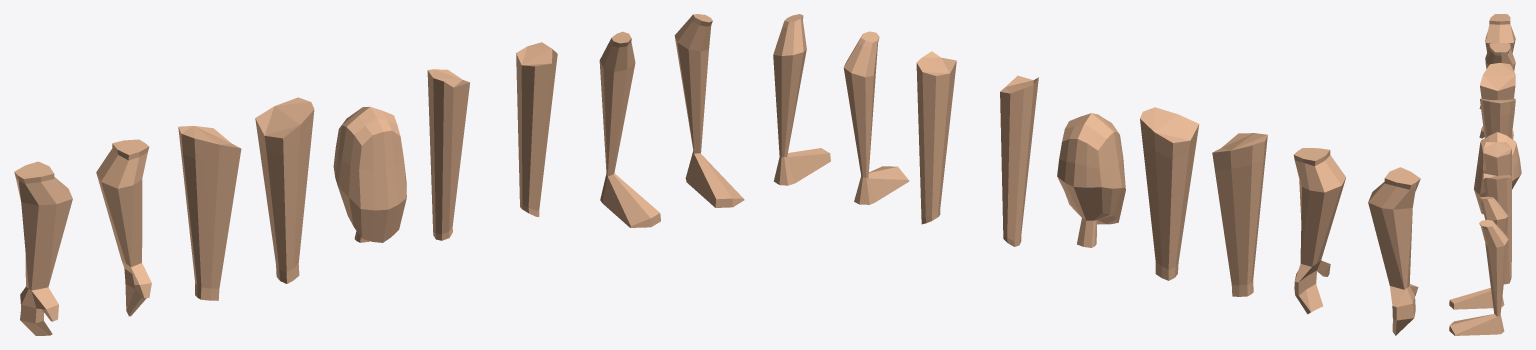
File: 02_jhon.fbx
The picture shows the model from 3 angles, left to right: view 1: azimuth 30°, elevation 25°; view 2: azimuth 150°, elevation 25°; view 3: azimuth 270°, elevation 25°; orthographic projection. The views are drawn at different scales.
Parts seen in each view (by area): view 1: 02_Cabeca, 02_BraçoDir, 02_BraçoEsq, 02_AntebraçoDir, 02_AntebraçoEsq, 02_CoxaEsq, 02_CoxaDir, 02_PernaDir, 02_PernaEsq; view 2: 02_BraçoEsq, 02_Cabeca, 02_BraçoDir, 02_AntebraçoEsq, 02_AntebraçoDir, 02_CoxaEsq, 02_CoxaDir, 02_PernaEsq, 02_PernaDir; view 3: 02_PernaEsq, 02_PernaDir, 02_CoxaEsq, 02_BraçoDir, 02_BraçoEsq, 02_Cabeca, 02_CoxaDir, 02_AntebraçoDir, 02_AntebraçoEsq.
Part boxes in pixels (x1,y1,x2,y2): 02_Cabeca: (333, 106, 406, 242); 02_BraçoDir: (178, 126, 241, 300); 02_BraçoEsq: (255, 97, 314, 283); 02_AntebraçoDir: (14, 161, 72, 335); 02_AntebraçoEsq: (96, 139, 151, 316); 02_CoxaEsq: (516, 42, 557, 216); 02_CoxaDir: (427, 69, 469, 240); 02_PernaDir: (599, 31, 660, 227); 02_PernaEsq: (674, 14, 744, 207); 02_BraçoEsq: (1140, 107, 1199, 280); 02_Cabeca: (1057, 113, 1125, 247); 02_BraçoDir: (1212, 133, 1267, 296); 02_AntebraçoEsq: (1293, 148, 1345, 314); 02_AntebraçoDir: (1368, 167, 1420, 335); 02_CoxaEsq: (916, 51, 956, 224); 02_CoxaDir: (1000, 75, 1038, 246); 02_PernaEsq: (773, 14, 830, 185); 02_PernaDir: (843, 31, 909, 204); 02_PernaEsq: (1449, 219, 1508, 335); 02_PernaDir: (1449, 196, 1508, 309); 02_CoxaEsq: (1483, 173, 1511, 284); 02_BraçoDir: (1480, 63, 1515, 99); 02_BraçoEsq: (1480, 98, 1515, 138); 02_Cabeca: (1474, 132, 1521, 214); 02_CoxaDir: (1483, 142, 1511, 176); 02_AntebraçoDir: (1479, 14, 1515, 109); 02_AntebraçoEsq: (1479, 42, 1515, 139).
Bounding box in the file's own units: 213 × 50.54 × 30.27.
